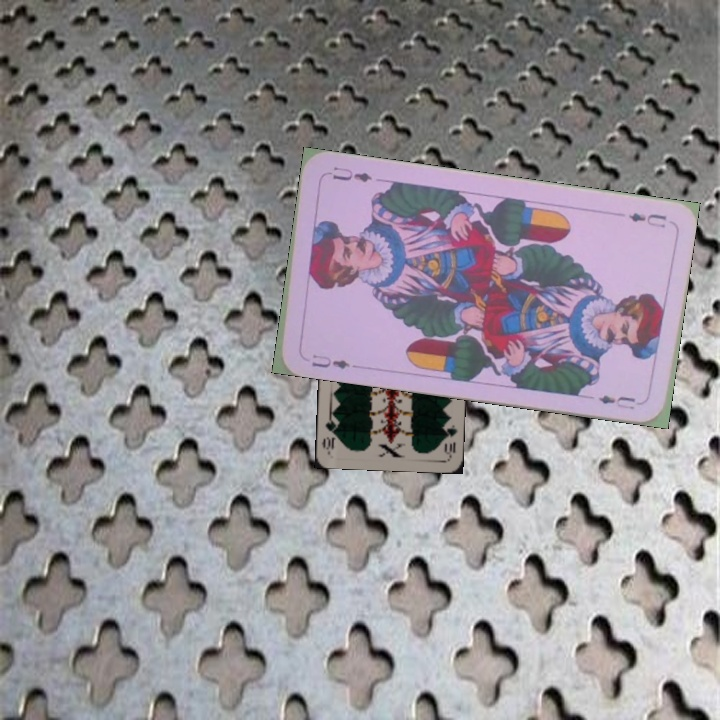EU: (308, 350, 353, 372), (625, 209, 669, 231)
G10: (440, 416, 460, 457)
